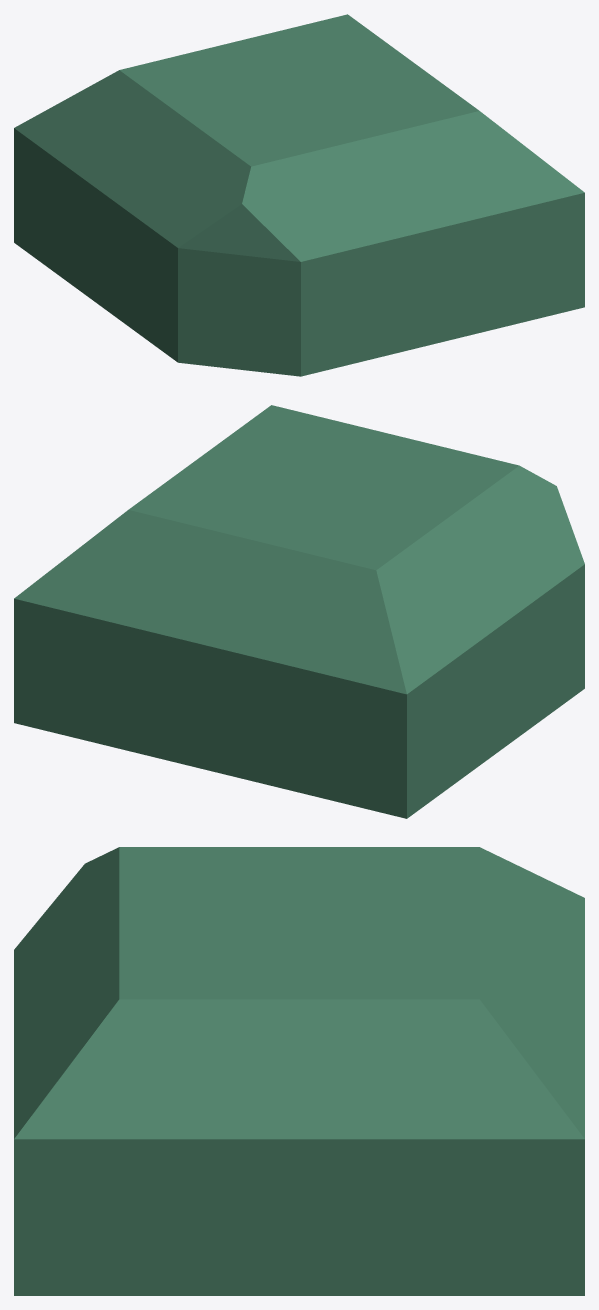
Rendered from Mithril Ore.fbx.
3 views of the same model, one above another, from view 1: azimuth 30°, elevation 25°; view 2: azimuth 150°, elevation 25°; view 3: azimuth 270°, elevation 25° (orthographic). The views are drawn at different scales.
Parts seen in each view (by area): view 1: Cube; view 2: Cube; view 3: Cube.
Part boxes in pixels (left/top/right/bottom): Cube: left=14, top=14, right=584, bottom=376; Cube: left=14, top=405, right=584, bottom=818; Cube: left=14, top=847, right=584, bottom=1295.
Bounding box in the file's own units: 2 × 2 × 0.9741.
